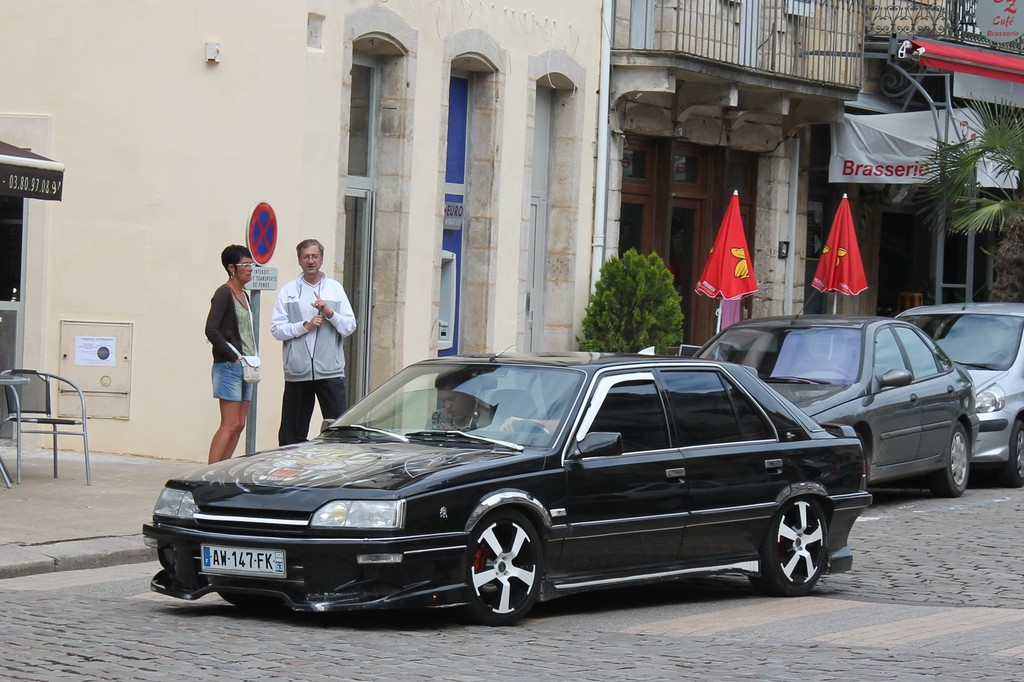Car: (140, 345, 872, 621), (690, 288, 980, 495), (893, 301, 1023, 486)
